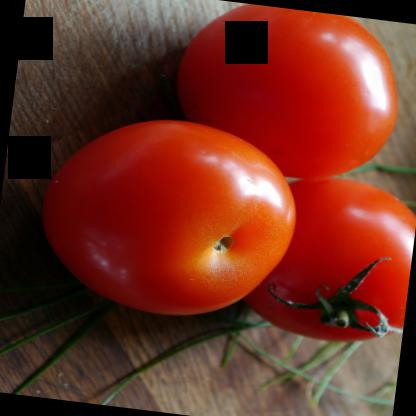tomato: (29, 102, 306, 328), (167, 0, 410, 187), (231, 164, 415, 352)
